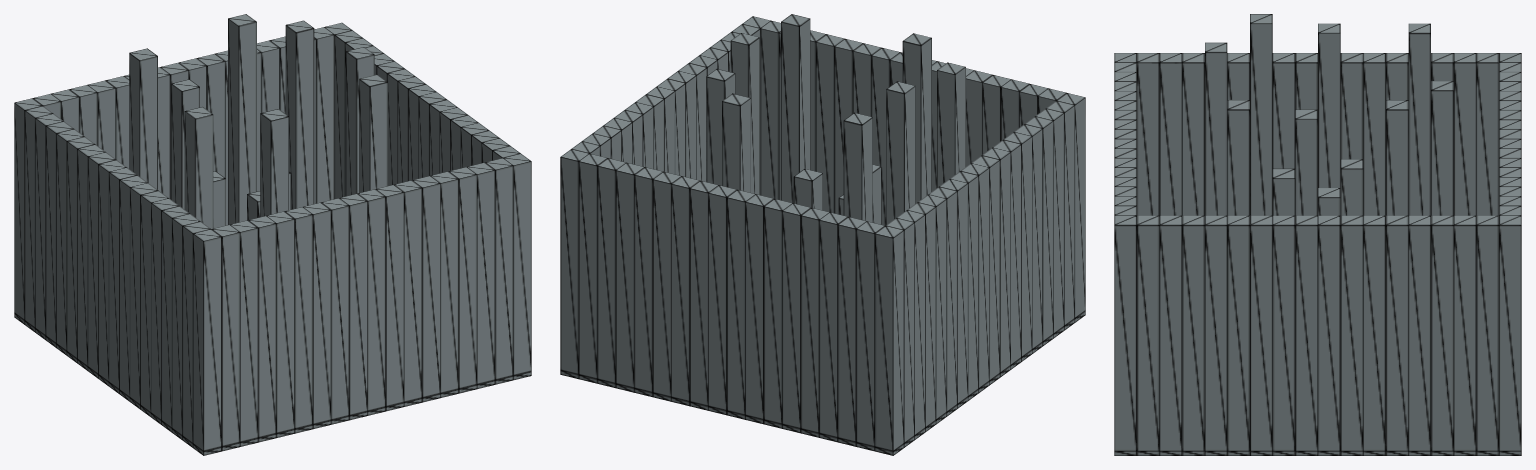
The model's file is stage.fbx.
3 views of the same model, side by side, from view 1: azimuth 30°, elevation 25°; view 2: azimuth 150°, elevation 25°; view 3: azimuth 270°, elevation 25° (orthographic). The views are drawn at different scales.
Visible parts, largest first — view 1: グリッド; view 2: グリッド; view 3: グリッド.
Boxes of the visible parts, x1=… form: グリッド: x1=14, y1=14, x2=531, y2=455; グリッド: x1=560, y1=14, x2=1085, y2=455; グリッド: x1=1114, y1=14, x2=1521, y2=455.
Size of the model in its own units: 2648 by 2141 by 2648.
Materials: 1 (1 with a texture image).
